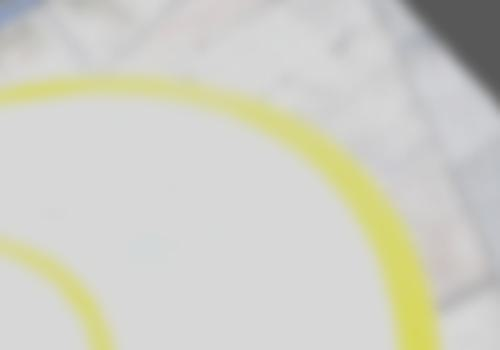Apron: (1, 73, 463, 349)
